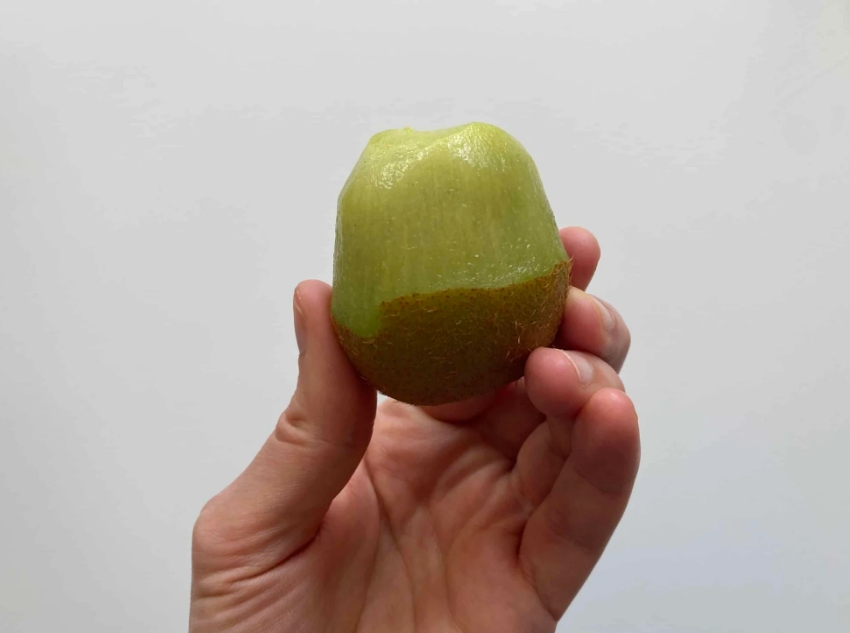kiwi: (240, 89, 651, 410)
